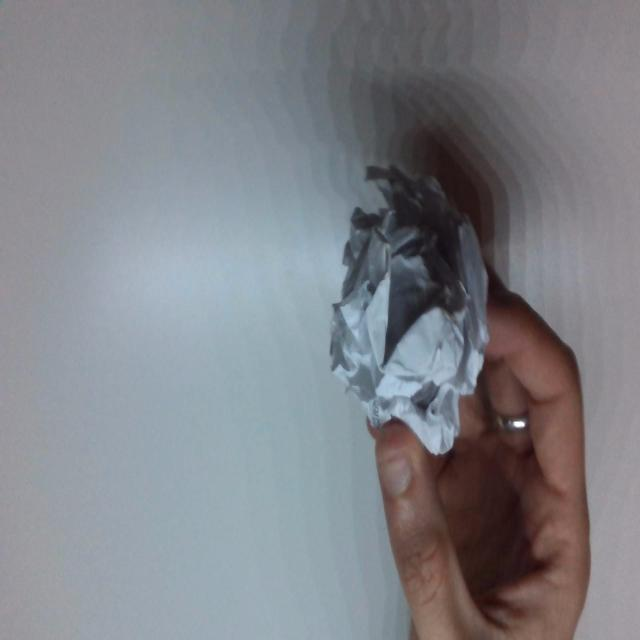Paper: (332, 161, 490, 454)
